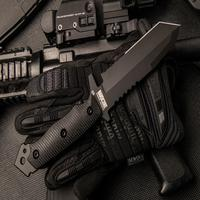knife: (13, 17, 181, 178)
